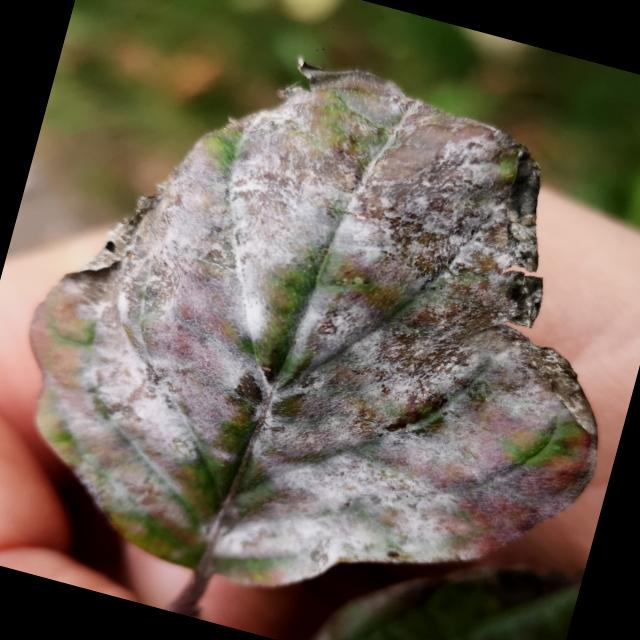powdery_mildew: (31, 60, 596, 617)
